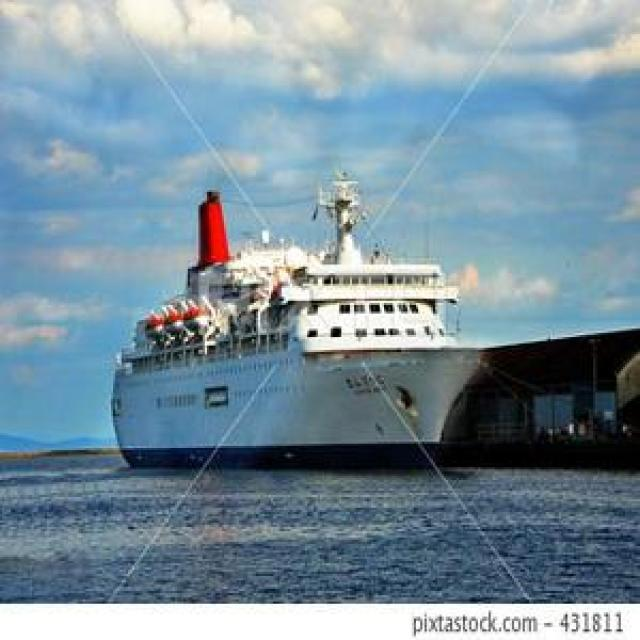cargoship: (107, 222, 470, 471)
